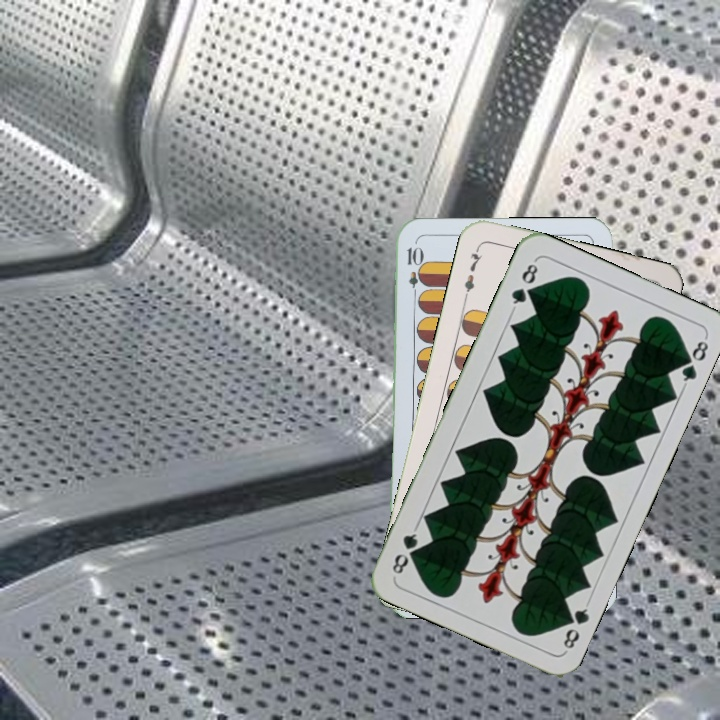E10: (403, 243, 421, 302)
E7: (460, 242, 486, 301)
G8: (507, 256, 541, 312), (558, 598, 592, 654)
